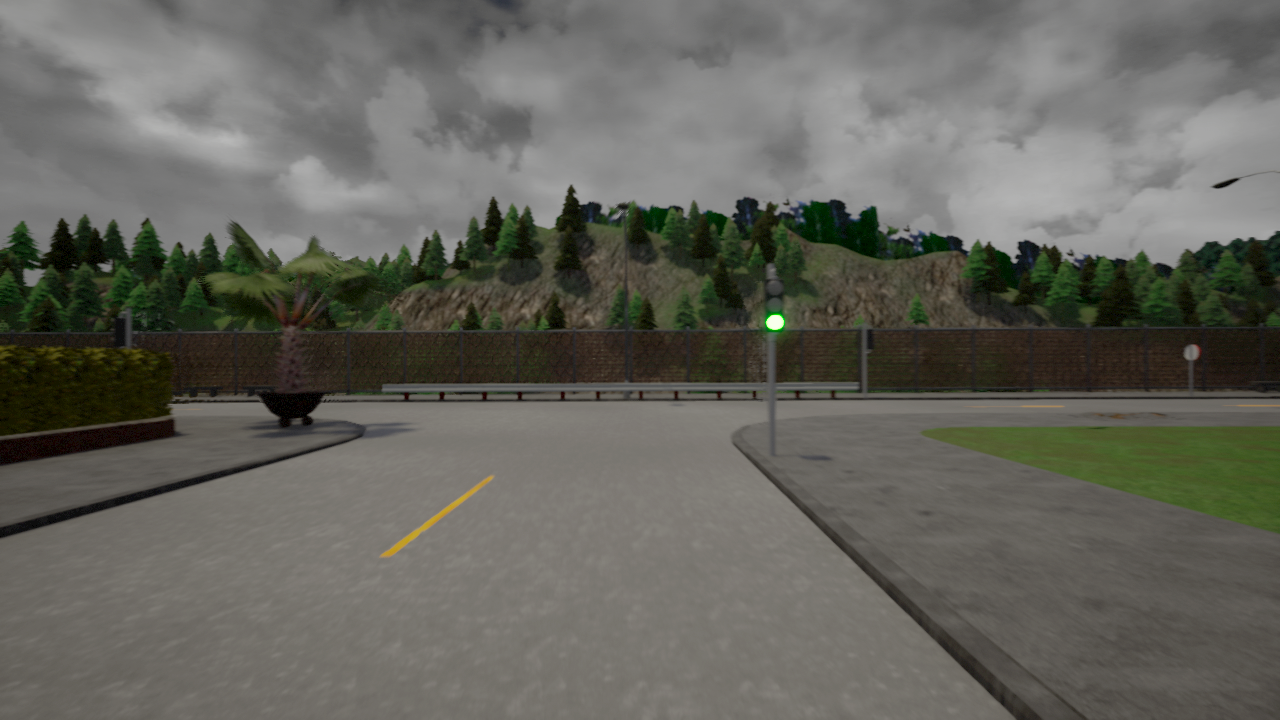green: (761, 275, 784, 330)
